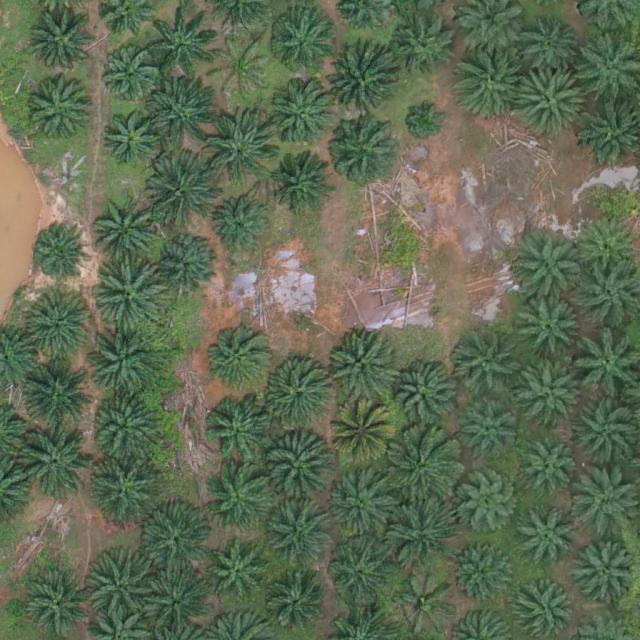Dead: (212, 34, 275, 97)
Healthy: (385, 500, 456, 571), (514, 66, 585, 137), (514, 234, 585, 305), (387, 360, 458, 431), (327, 47, 398, 118), (87, 330, 158, 401), (388, 430, 458, 501), (206, 465, 276, 536), (144, 511, 214, 582), (93, 390, 163, 461), (88, 546, 158, 617), (258, 361, 328, 432), (270, 79, 340, 150), (204, 322, 274, 393), (148, 157, 218, 228), (147, 7, 217, 78), (94, 190, 164, 261), (23, 358, 93, 429), (24, 290, 94, 361), (29, 10, 99, 81), (265, 435, 335, 505), (204, 399, 274, 469), (88, 454, 158, 524), (18, 427, 88, 497), (450, 50, 520, 120), (516, 353, 586, 423), (450, 330, 520, 400), (327, 334, 397, 404), (329, 120, 399, 190), (206, 113, 276, 183), (149, 78, 219, 148), (97, 262, 167, 332), (575, 543, 638, 606), (454, 475, 517, 538), (452, 541, 515, 604), (327, 542, 390, 605), (519, 299, 582, 362), (154, 233, 217, 296), (100, 105, 163, 168), (516, 507, 578, 570), (326, 472, 388, 535), (269, 508, 331, 571), (207, 542, 269, 605), (145, 572, 208, 634), (27, 577, 90, 639), (519, 16, 581, 79), (577, 216, 639, 279), (270, 153, 333, 215), (396, 16, 458, 79), (269, 10, 331, 73), (98, 45, 160, 108), (31, 78, 93, 141), (210, 199, 272, 261), (523, 441, 578, 496), (462, 407, 517, 462), (32, 224, 86, 279)
Small: (402, 97, 449, 144)
Yellow: (395, 573, 458, 635), (330, 405, 392, 468)
